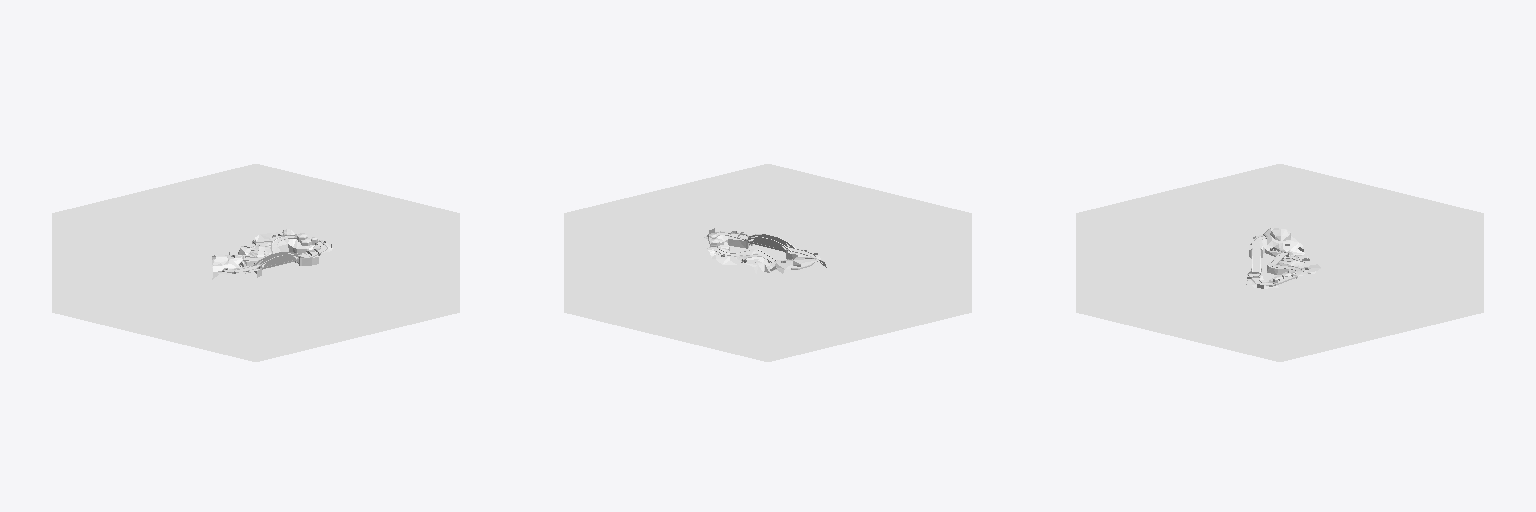
Rendered from Kinoko.obj.
3 renders of one model, left to right at view 1: azimuth 30°, elevation 25°; view 2: azimuth 150°, elevation 25°; view 3: azimuth 270°, elevation 25°, orthographic.
Size of the model in its own units: 1481 by 56.22 by 1283.